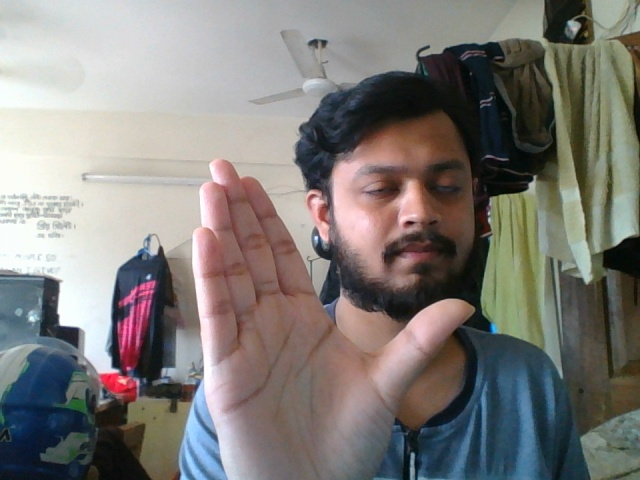a: (176, 148, 485, 480)
